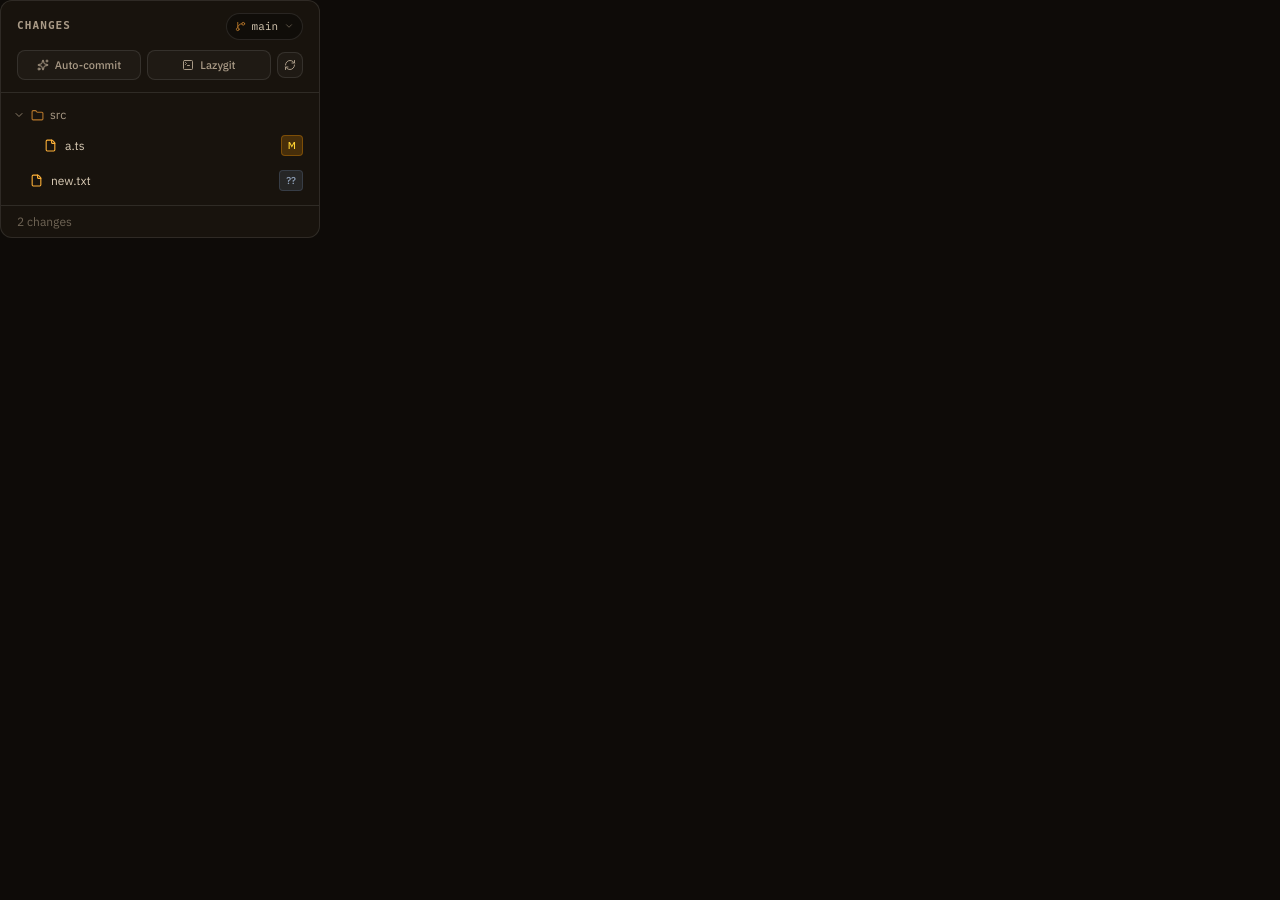
Test: GitPanel › close button dismisses the file editor dialog
Click the text "a.ts": point(75, 145) [65, 138, 85, 152]
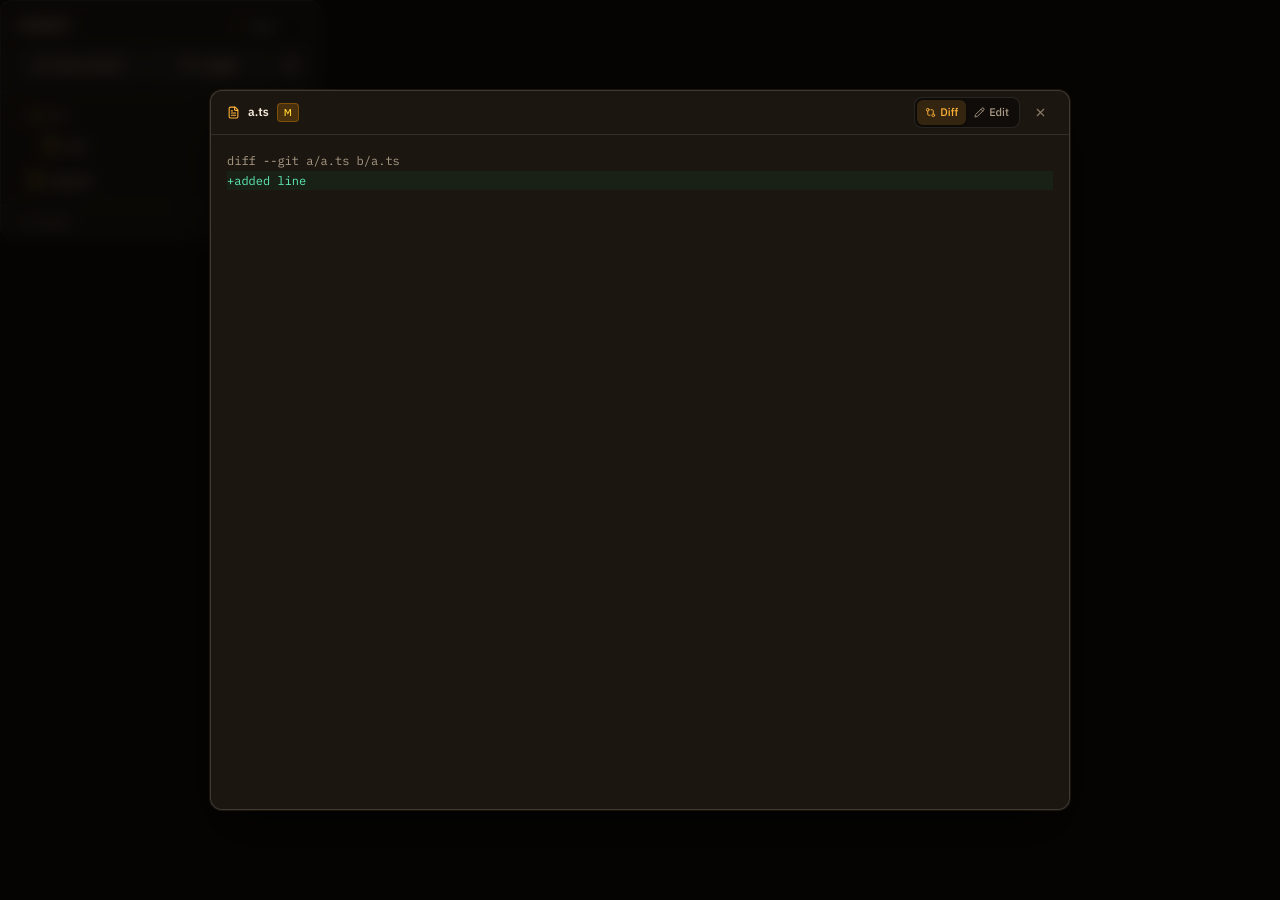
Check: the text "+added line" is shown, box [227, 170, 1053, 190]
Click the button titled "Close": point(1040, 112) [1028, 100, 1053, 125]
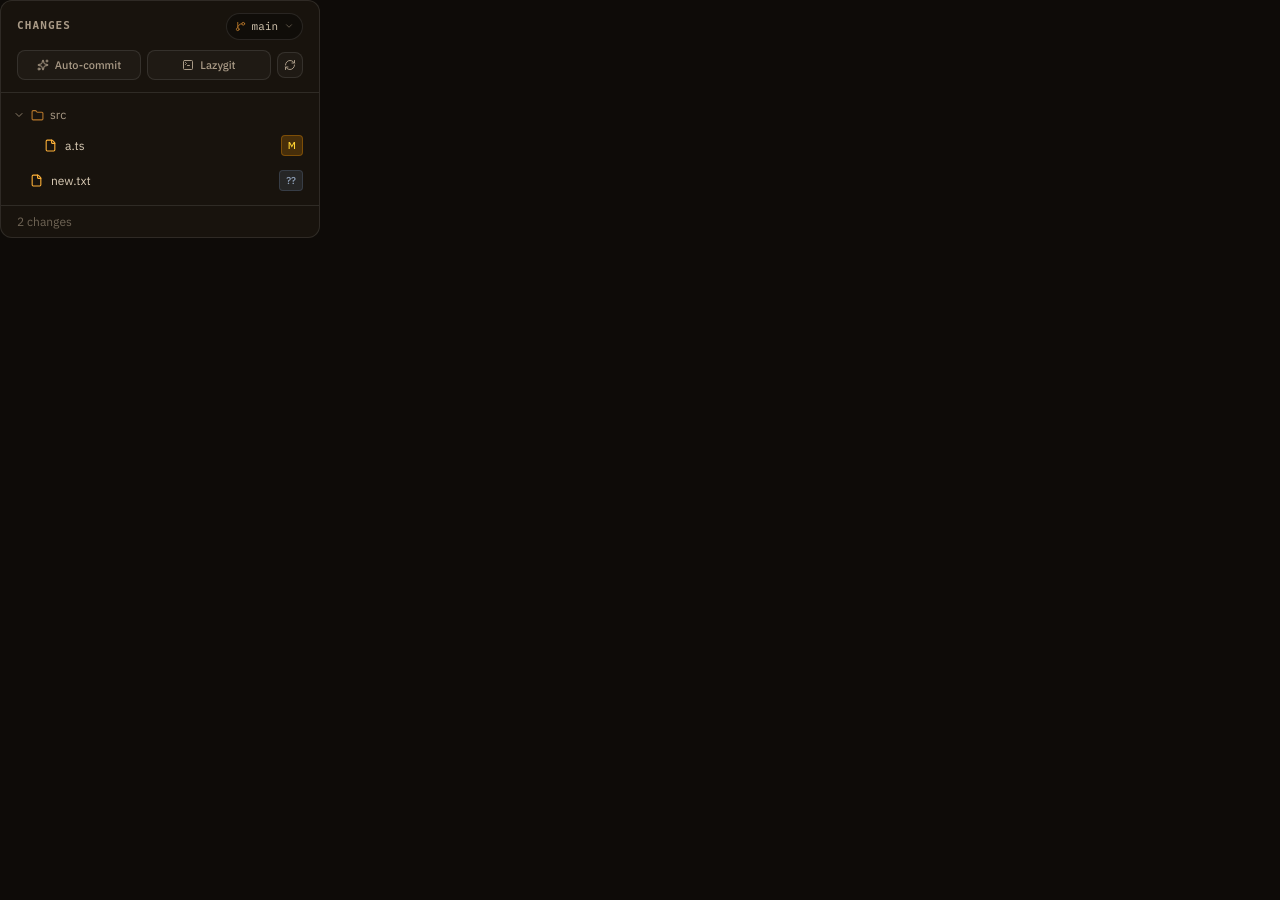
Check: the text "+added line" is gone
